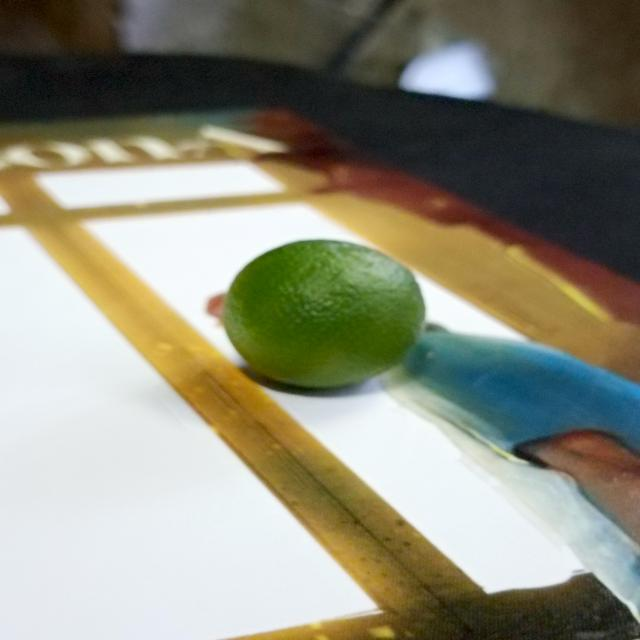heathy: (213, 235, 434, 395)
